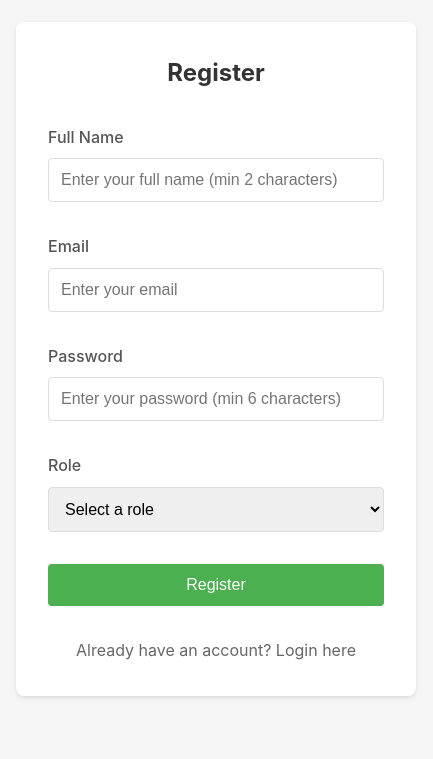
Test case: Register.vue › validates password length
The width and height of the screenshot is (433, 759).
# Fill in form with short password
In the field labelled "Full Name": (216, 180) [48,158,384,202], type "John Doe"
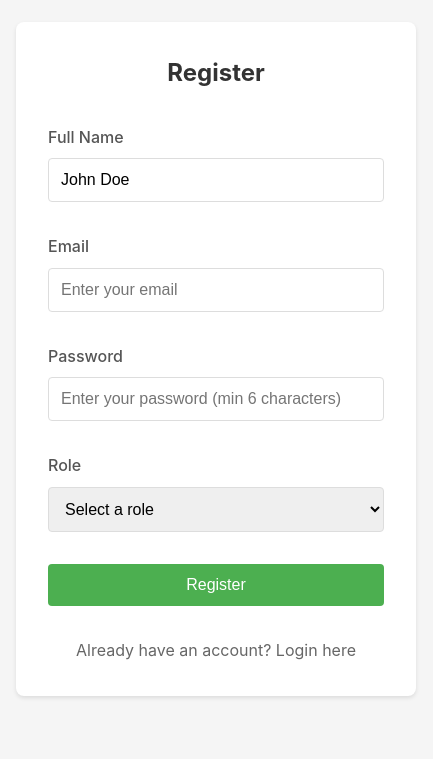
In the field labelled "Email": (216, 290) [48,268,384,312], type "john@example.com"
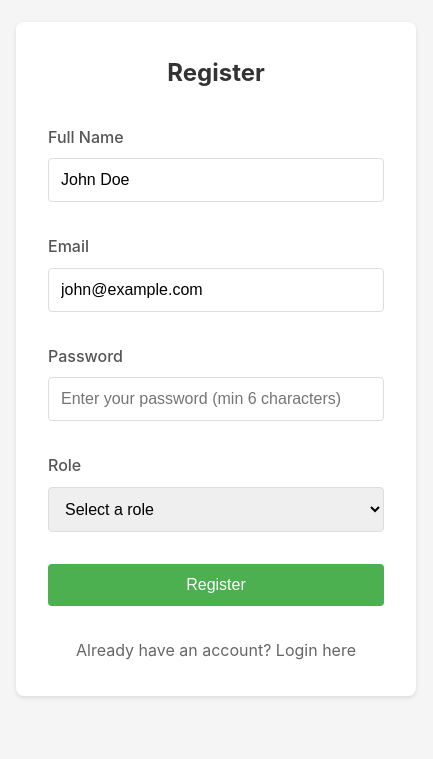
In the password field labelled "Password": (216, 400) [48,378,384,422], type "12345"
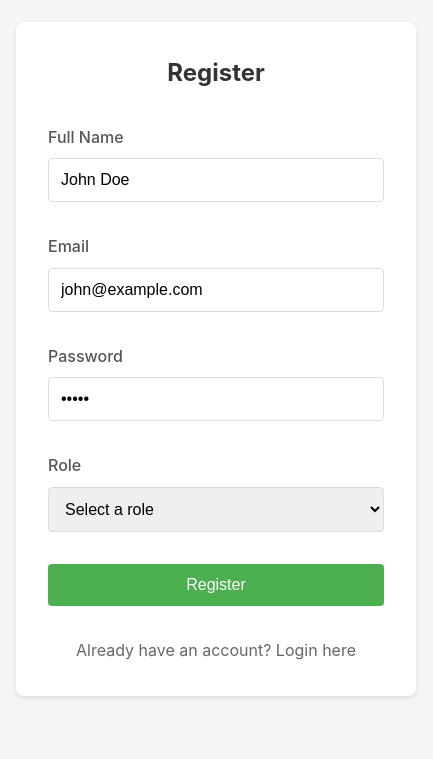
Select "Developer" in the dropdown labelled "Role": (216, 510) [48,487,384,532]
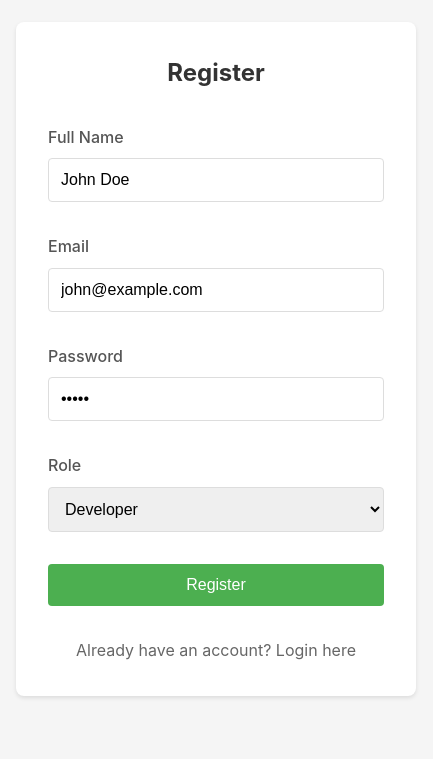
# Submit form
Submit the form, box [48,125,384,664]
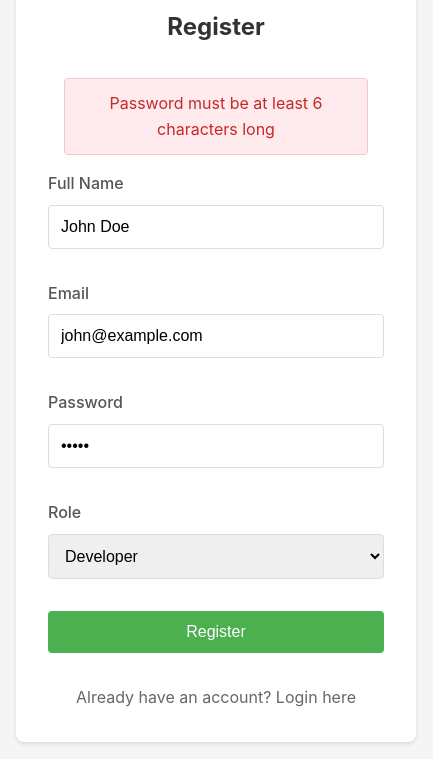
Check: the text "Password must be at least 6 characters long" is shown, box [64,78,368,155]
